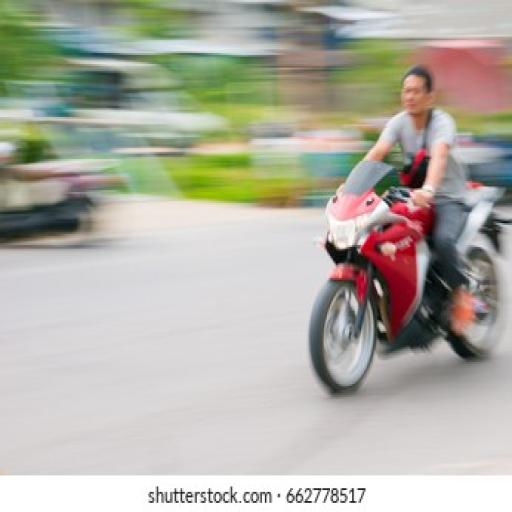no_helm: (391, 54, 447, 127)
